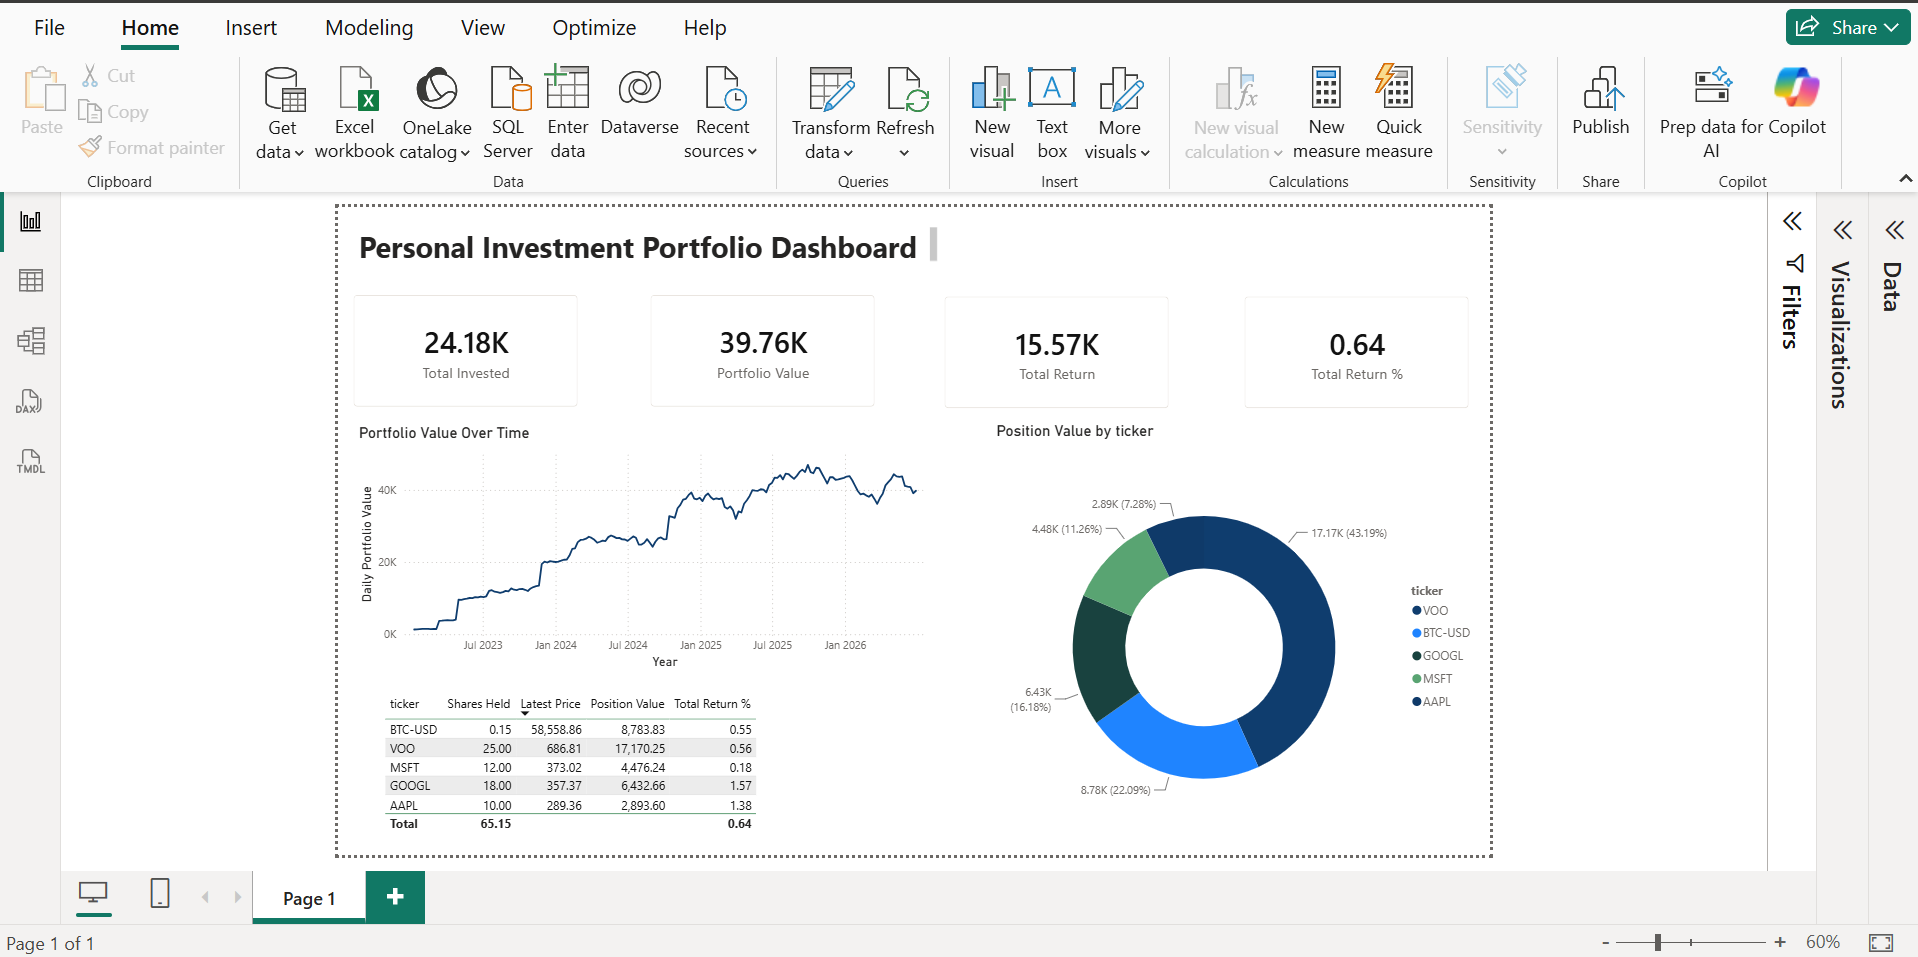

This screenshot's page, from the dashboard's own definition file:
{"tool":"powerbi","page":{"name":"Page 1","canvas":[1280,720],"ordinal":0},"visuals":[{"type":"cardVisual","fields":{"Data":["Dim_Date.Total Invested"]},"box":[0,81,283.4,158.7],"z":0},{"type":"cardVisual","fields":{"Data":["Dim_Date.Portfolio Value"]},"box":[330.3,81,283,158.7],"z":1000},{"type":"cardVisual","fields":{"Data":["Dim_Date.Total Return"]},"box":[657.4,82.6,283.4,158.7],"z":2000},{"type":"cardVisual","fields":{"Data":["Dim_Date.Total Return %"]},"box":[989.3,82.6,283.4,158.7],"z":3000},{"type":"donutChart","fields":{"Category":["transactions.ticker"],"Y":["Dim_Date.Position Value"]},"box":[727,239.6,545.7,480.9],"z":4000},{"type":"tableEx","fields":{"Values":["transactions.ticker","Dim_Date.Shares Held","Dim_Date.Latest Price","Dim_Date.Position Value","Dim_Date.Total Return %"]},"box":[47,536,425.9,171.6],"z":5000},{"type":"lineChart","title":"Portfolio Value Over Time","fields":{"Category":["Dim_Date.WeekStart.Variation.Date Hierarchy.Year","Dim_Date.WeekStart.Variation.Date Hierarchy.Quarter","Dim_Date.WeekStart.Variation.Date Hierarchy.Month","Dim_Date.WeekStart.Variation.Date Hierarchy.Day"],"Y":["daily_prices.Daily Portfolio Value"]},"box":[17.8,241.3,652.5,276.9],"z":6000},{"type":"textbox","box":[17.8,17.8,652.5,50.2],"z":7000}]}

Visuals, with their boxes on the page's 1280x720 design canvas (x1, y1, x2, y2). These are canvas units, not pixel positions in the 1918x957 screenshot, which may show the page scaled, cropped or inside an application window:
cardVisual - Dim_Date.Total Invested: 0:81:283:240
cardVisual - Dim_Date.Portfolio Value: 330:81:613:240
cardVisual - Dim_Date.Total Return: 657:83:941:241
cardVisual - Dim_Date.Total Return %: 989:83:1273:241
donutChart - transactions.ticker x Dim_Date.Position Value: 727:240:1273:720
tableEx - transactions.ticker x Dim_Date.Shares Held: 47:536:473:708
"Portfolio Value Over Time" lineChart: 18:241:670:518
textbox: 18:18:670:68
